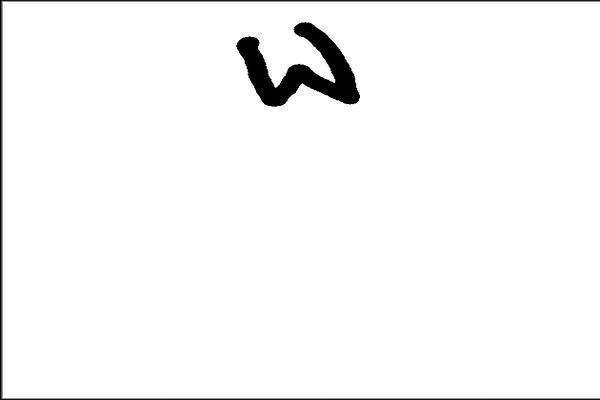w: (222, 12, 370, 131)
